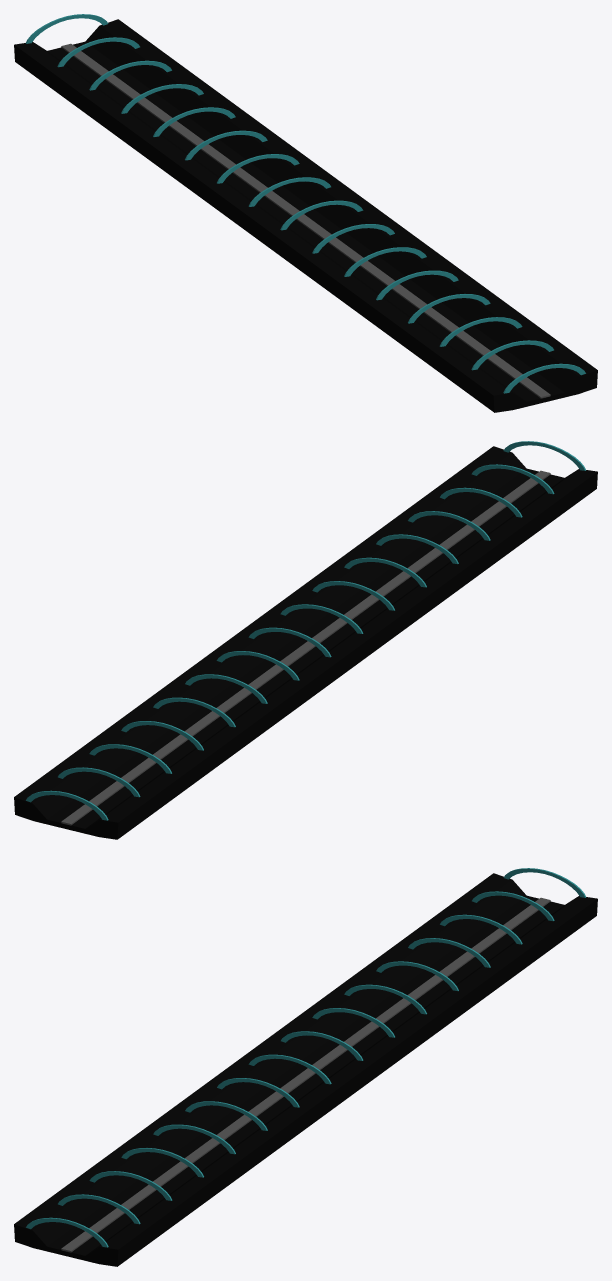
The model's file is ArchParadiseV2 (1).fbx.
The picture shows the model from 3 angles, top to bottom: view 1: azimuth 30°, elevation 25°; view 2: azimuth 150°, elevation 25°; view 3: azimuth 330°, elevation 25°; orthographic projection.
Visible parts, largest first — view 1: Plane.004, Plane.002, Plane.005, Plane.006, Plane, Plane.003; view 2: Plane.004, Plane.002, Plane.005, Plane.006, Plane, Plane.003; view 3: Plane.006, Plane.002, Plane.003, Plane.004, Plane, Plane.005.
Boxes of the visible parts, x1=… form: Plane.004: x1=14, y1=42, x2=512, y2=412; Plane.002: x1=47, y1=41, x2=564, y2=406; Plane.005: x1=85, y1=25, x2=578, y2=397; Plane.006: x1=100, y1=19, x2=597, y2=393; Plane: x1=61, y1=43, x2=550, y2=398; Plane.003: x1=35, y1=43, x2=526, y2=409; Plane.004: x1=99, y1=469, x2=597, y2=839; Plane.002: x1=47, y1=468, x2=564, y2=833; Plane.005: x1=33, y1=452, x2=526, y2=824; Plane.006: x1=14, y1=446, x2=511, y2=820; Plane: x1=61, y1=470, x2=550, y2=825; Plane.003: x1=85, y1=470, x2=576, y2=836; Plane.006: x1=99, y1=896, x2=597, y2=1266; Plane.002: x1=47, y1=895, x2=564, y2=1260; Plane.003: x1=33, y1=879, x2=526, y2=1251; Plane.004: x1=14, y1=873, x2=511, y2=1247; Plane: x1=61, y1=897, x2=550, y2=1252; Plane.005: x1=85, y1=897, x2=576, y2=1263.
Size of what is drawn, in the model's own units: 12571 by 4057 by 100000.
